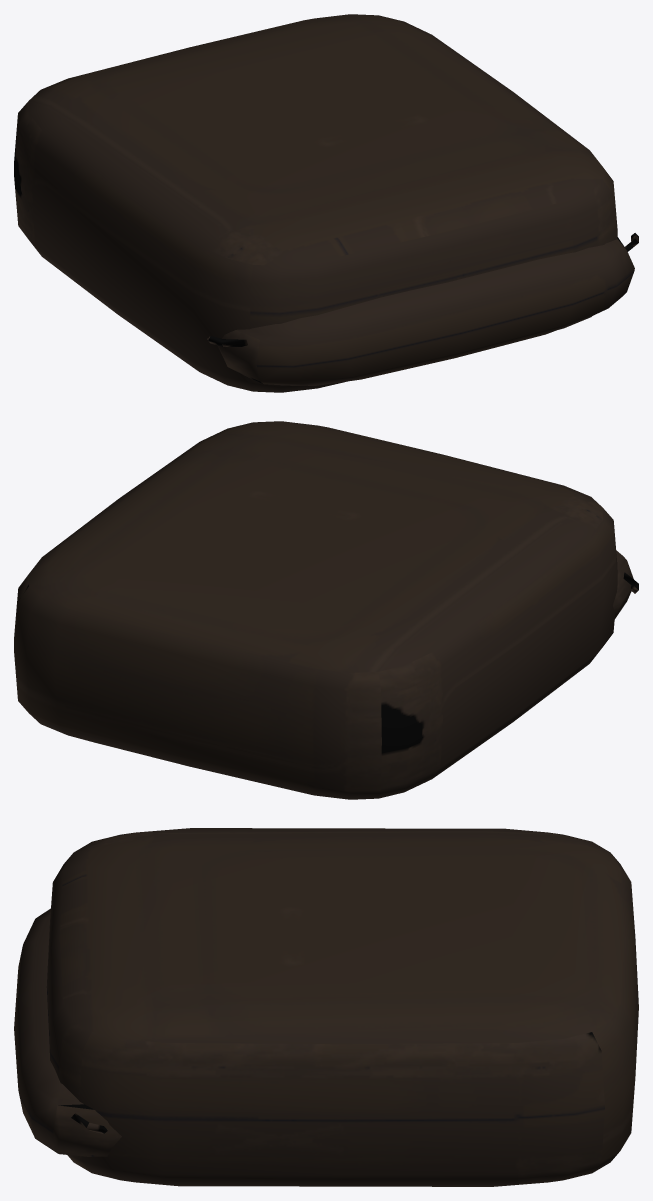
The model's file is Tano_BotaDer.fbx.
The picture shows the model from 3 angles, top to bottom: view 1: azimuth 30°, elevation 25°; view 2: azimuth 150°, elevation 25°; view 3: azimuth 270°, elevation 25°; orthographic projection. The views are drawn at different scales.
Parts seen in each view (by area): view 1: Tano_BotaDer; view 2: Tano_BotaDer; view 3: Tano_BotaDer.
Boxes of the visible parts, bbox=[...] form: Tano_BotaDer: bbox=[14, 14, 638, 392]; Tano_BotaDer: bbox=[14, 421, 638, 799]; Tano_BotaDer: bbox=[14, 828, 638, 1186].
Bounding box in the file's own units: 1.27 × 0.4549 × 1.43.
